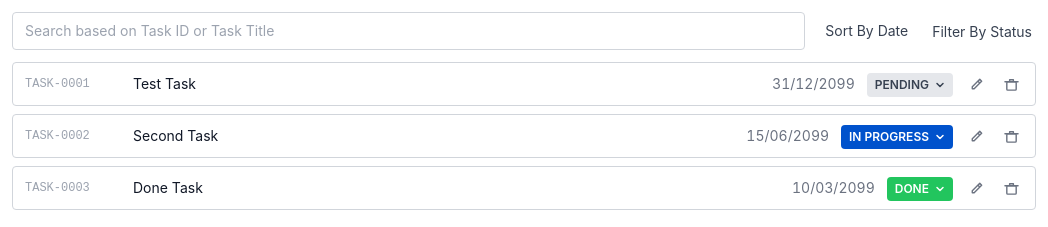
Test: TaskList › filter by status › filters out tasks when a status is unchecked
Click the button "Filter By Status".
click(982, 32)  # box [928, 22, 1036, 42]
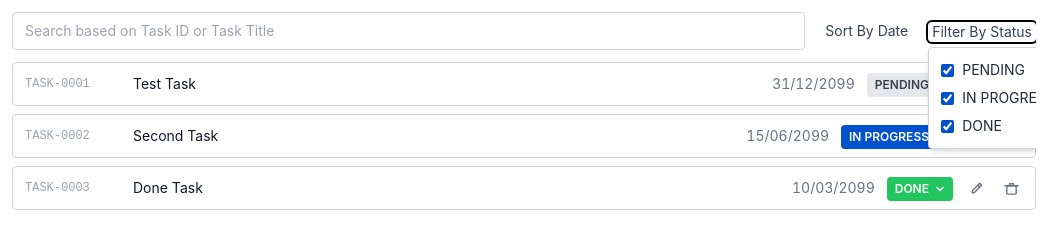
Click the checkbox labelled "PENDING".
click(948, 70)  # box [941, 64, 954, 76]
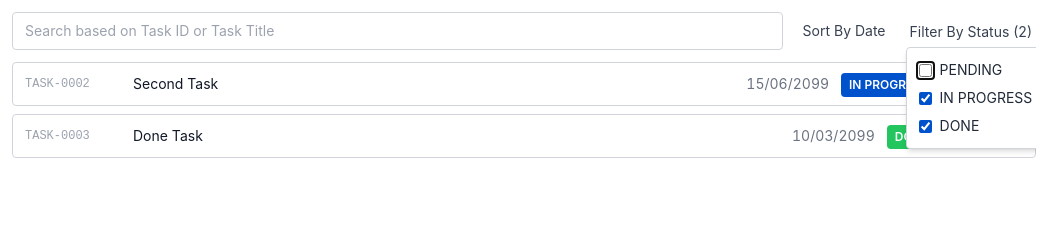
Expected: the text "Second Task" is shown, [133, 75, 218, 92]
Expected: the text "Test Task" is gone
